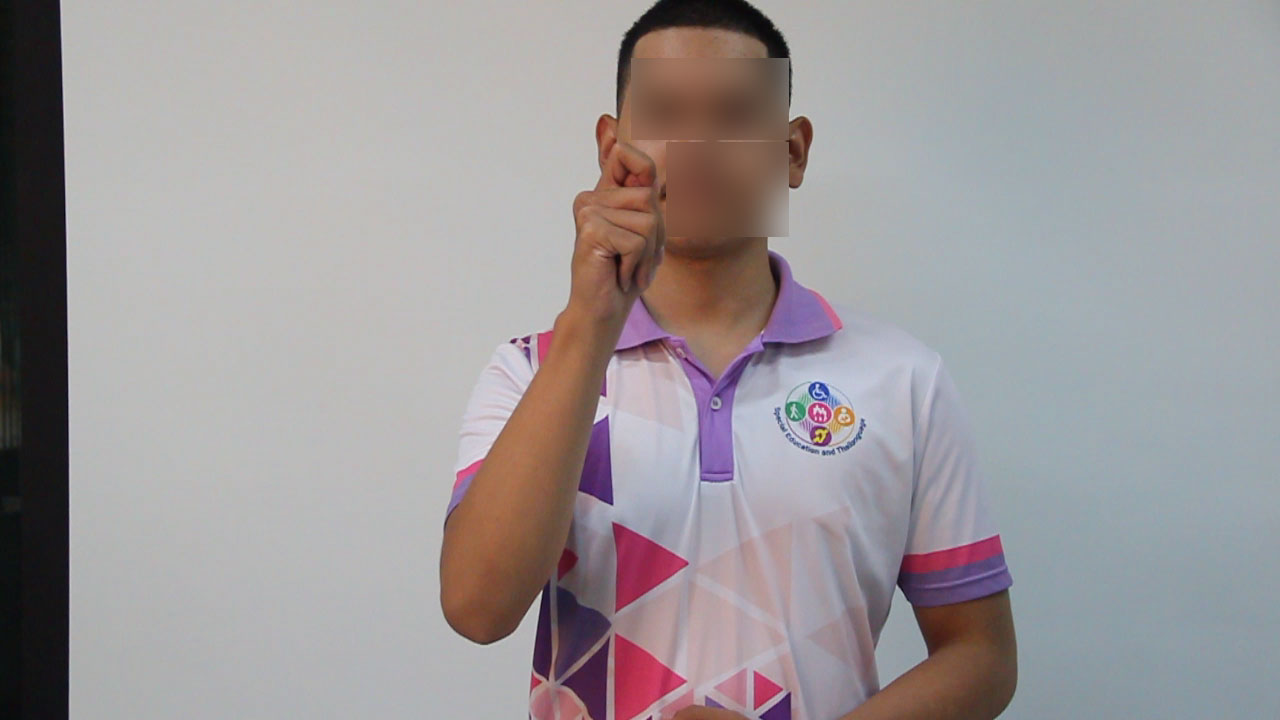or: (559, 139, 674, 343)
